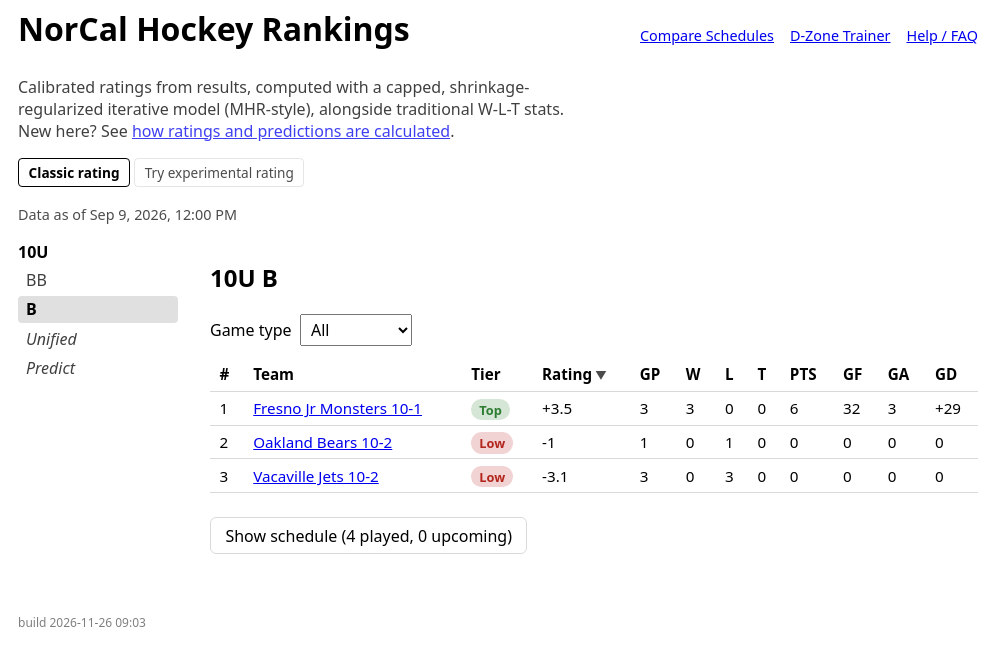
Scenario: App › predicts a same-division matchup as direct confidence
Expected: the link "Fresno Jr Monsters 10-1" is shown, x1=253 y1=398 x2=422 y2=418
Click the link "Predict".
click(51, 368)  # box x1=26 y1=357 x2=75 y2=379
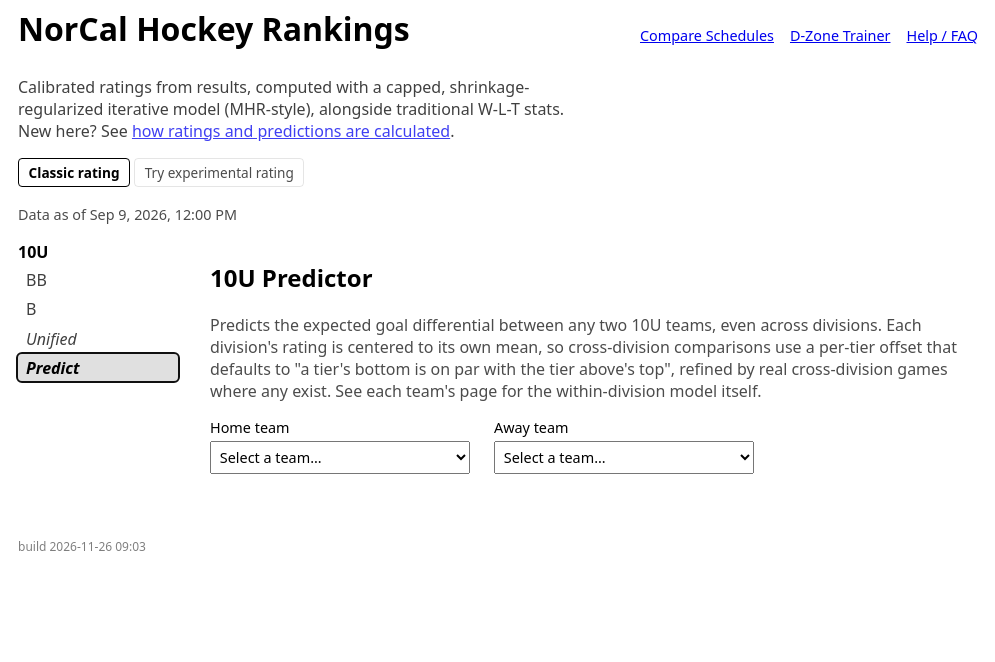
Now the heading "10U Predictor" is shown, box x1=210 y1=261 x2=372 y2=294
Select "Fresno Jr Monsters 10-1" in the dropdown labelled "Home team" at (340, 458), box x1=210 y1=442 x2=470 y2=474
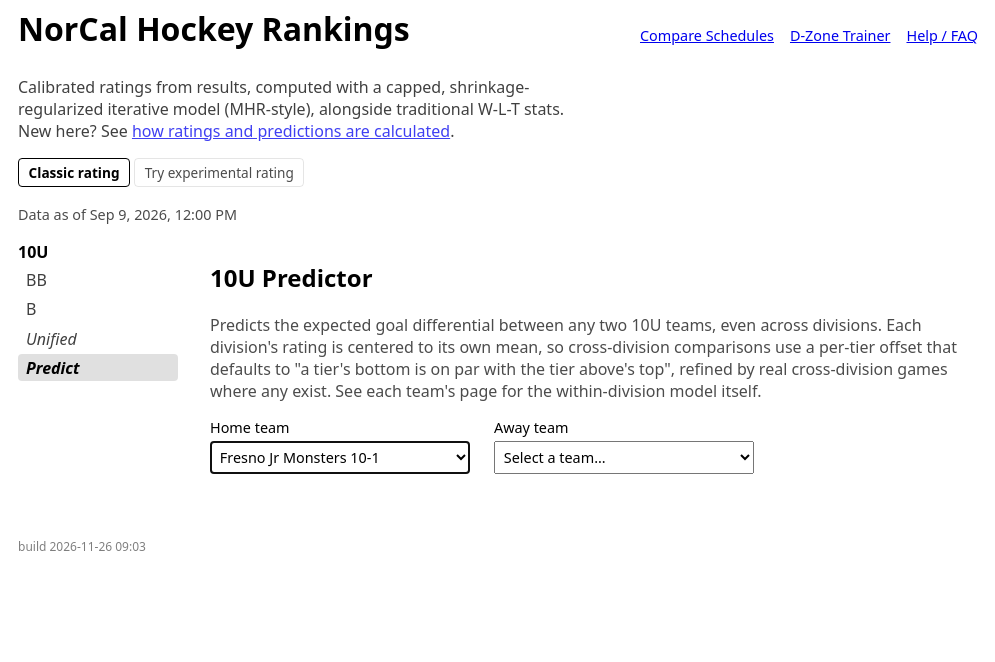
Select "Vacaville Jets 10-2" in the dropdown labelled "Away team" at (624, 458), box x1=494 y1=442 x2=754 y2=474
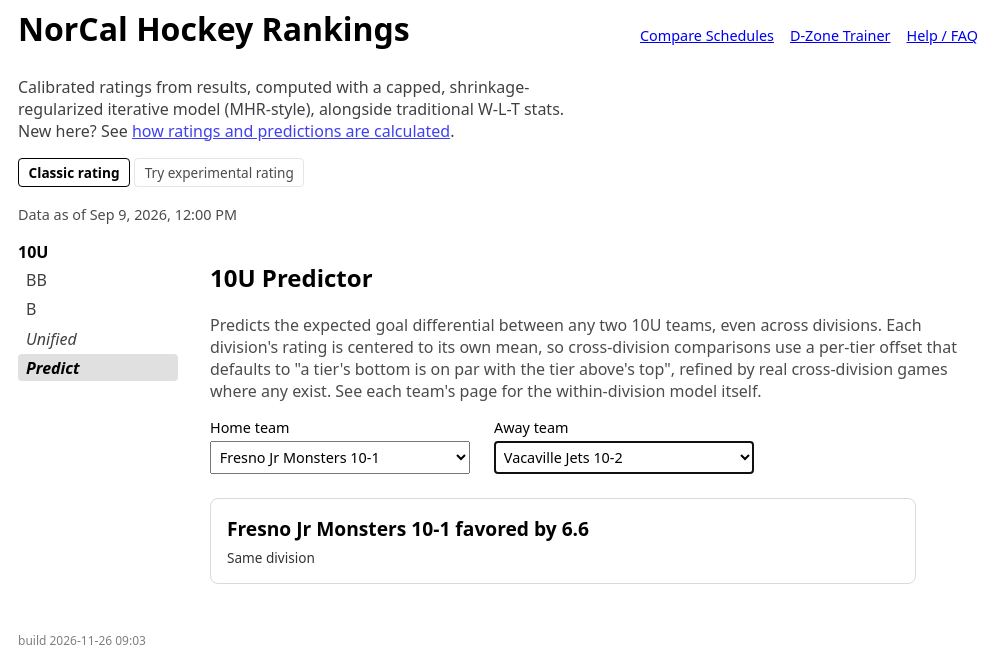
Now the text "Fresno Jr Monsters 10-1 favored by 6.6" is shown, box x1=227 y1=515 x2=589 y2=542
Now the text "Same division" is shown, box x1=227 y1=548 x2=315 y2=567
